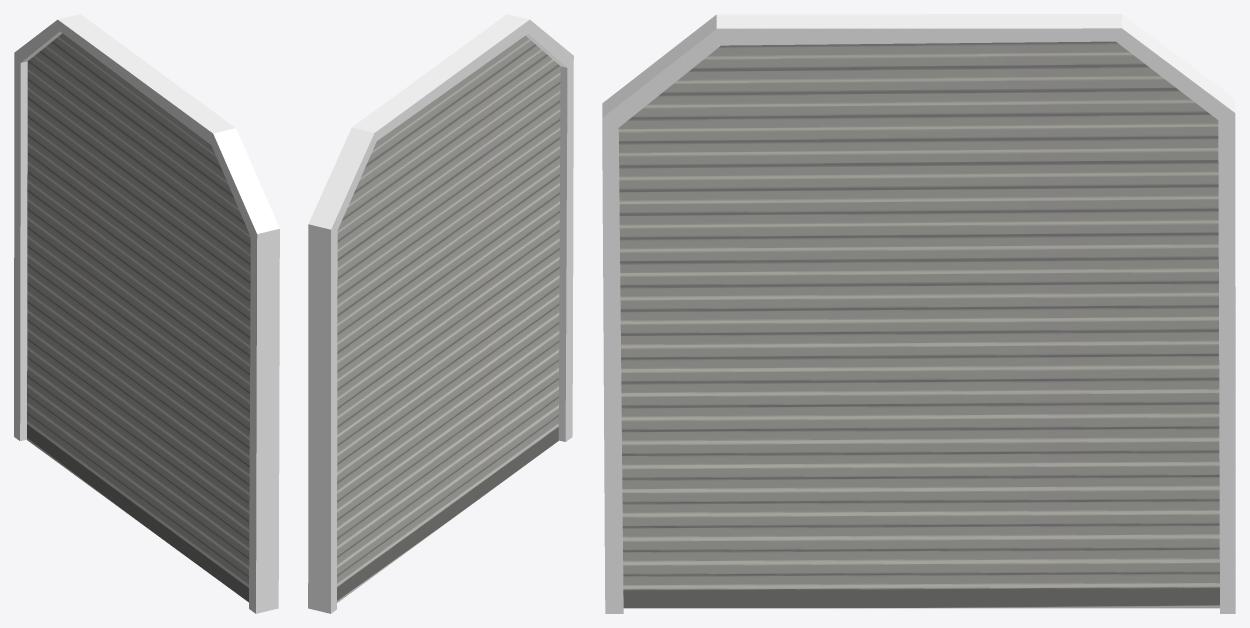
File: gragedoor45  (1).fc145d18.gltf
3 views of the same model, side by side, from view 1: azimuth 30°, elevation 25°; view 2: azimuth 150°, elevation 25°; view 3: azimuth 270°, elevation 25° (orthographic). The views are drawn at different scales.
Parts seen in each view (by area): view 1: Plane.001, Plane; view 2: Plane.001, Plane; view 3: Plane.001, Plane.
Part boxes in pixels (<box>): Plane.001: <box>27,33,250,602</box>; Plane: <box>14,14,279,613</box>; Plane.001: <box>337,35,560,602</box>; Plane: <box>308,14,573,613</box>; Plane.001: <box>618,41,1219,608</box>; Plane: <box>602,14,1235,613</box>.
Size of the model in its own units: 0.3 by 5.67 by 5.55.
Materials: 2 (1 with a texture image).
